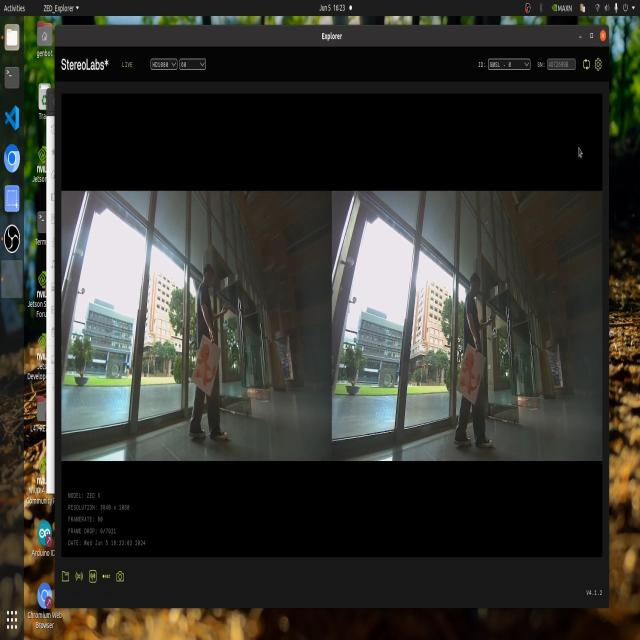red: (454, 351, 483, 410), (187, 339, 216, 391)
